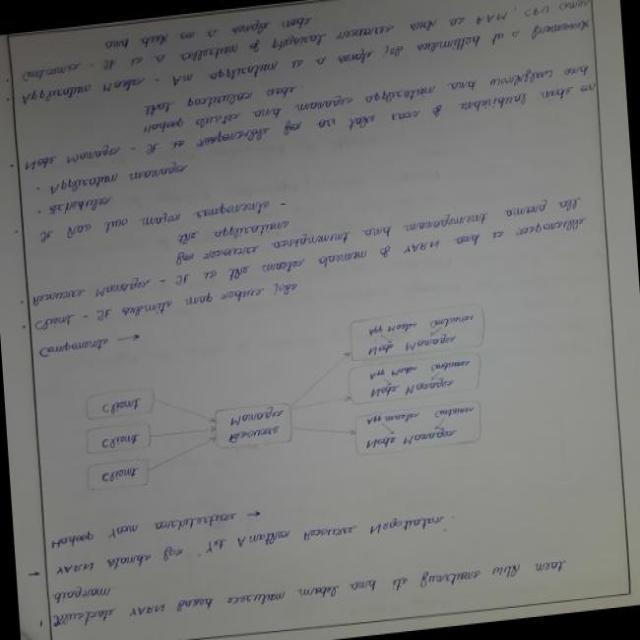Figure Detection - v3 Dataset Version2: (60, 287, 528, 518)
